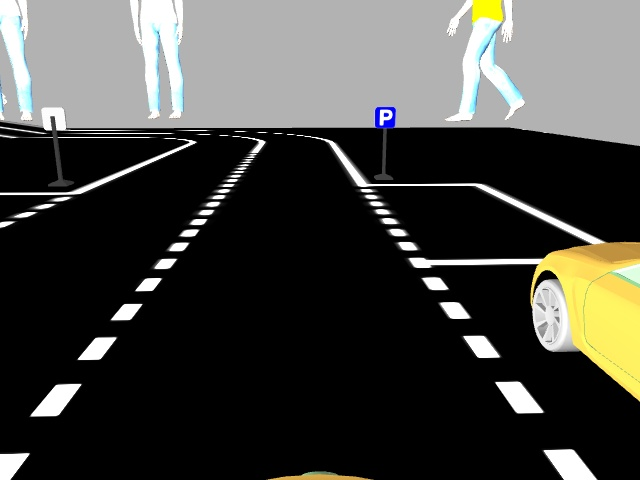Parking: (371, 105, 396, 129)
